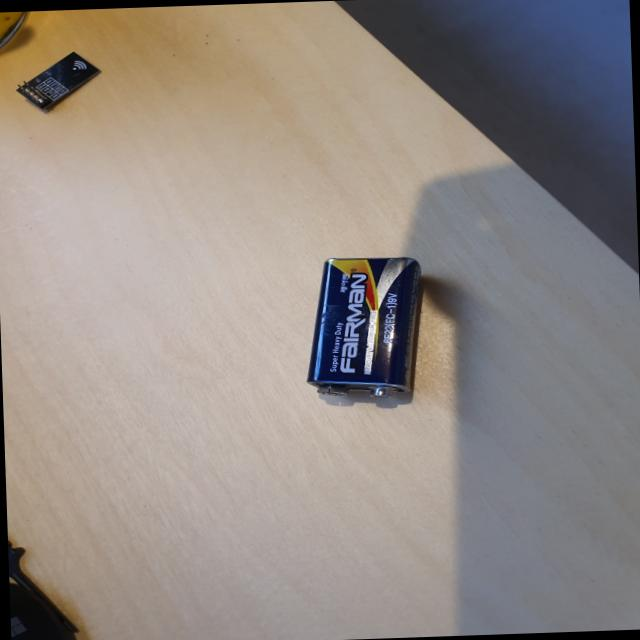battery-etc-etc: (280, 248, 449, 406)
